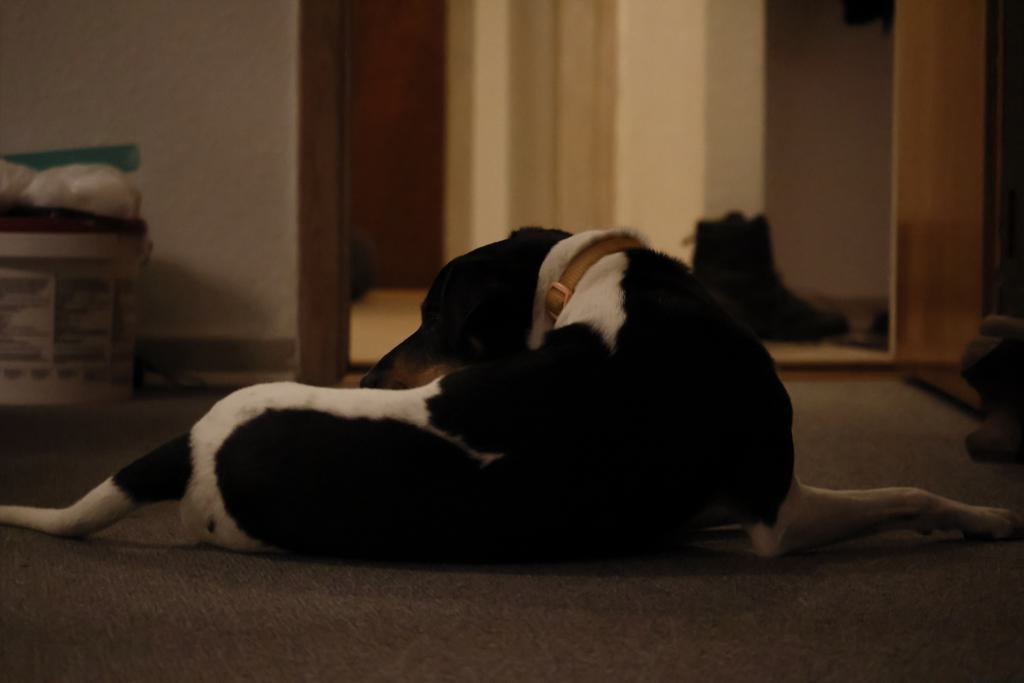Dog: (0, 203, 1024, 588)
